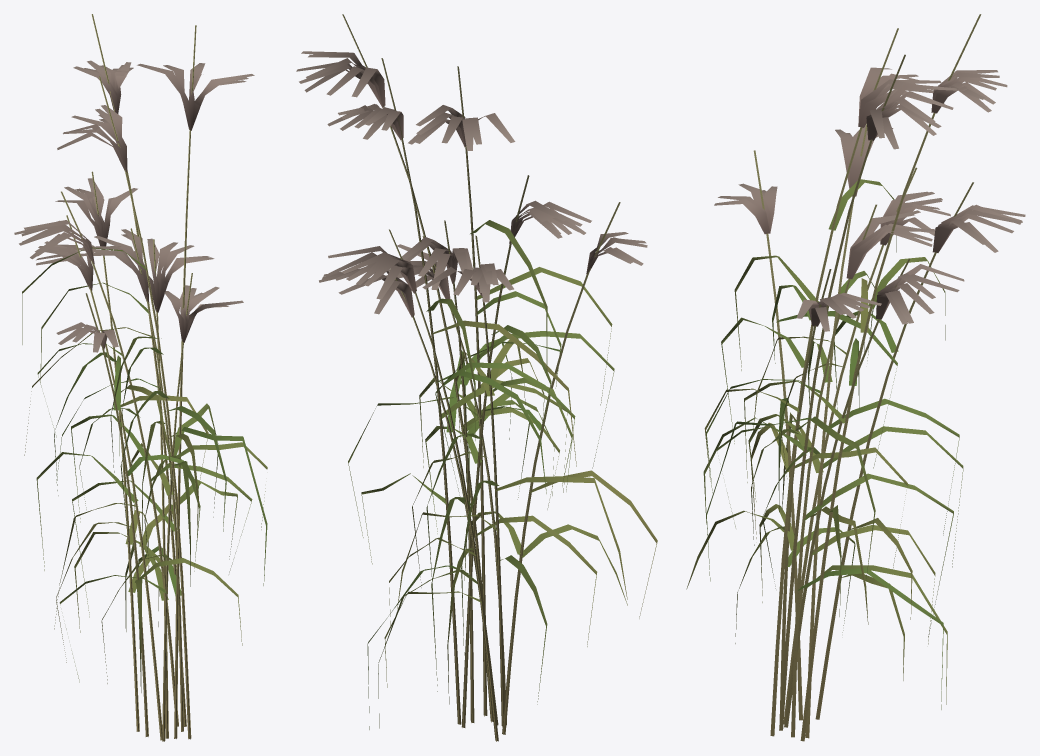
Rendered from reed_2.glb.
3 renders of one model, left to right at view 1: azimuth 30°, elevation 25°; view 2: azimuth 150°, elevation 25°; view 3: azimuth 270°, elevation 25°, orthographic. The views are drawn at different scales.
Visible parts, largest first — view 1: reed_2; view 2: reed_2; view 3: reed_2.
Part boxes in pixels (x1,y1,x2,y2): reed_2: [14, 14, 267, 741]; reed_2: [296, 14, 657, 741]; reed_2: [686, 14, 1025, 741].
Size of the model in its own units: 0.909 by 2.21 by 0.9443.
